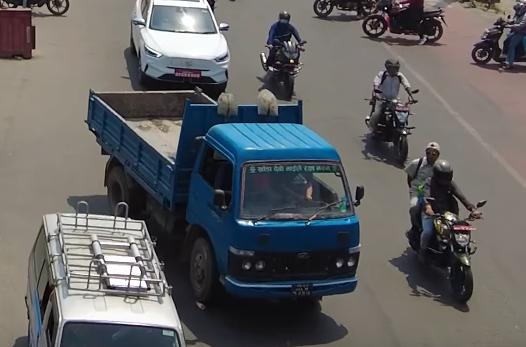bike: (399, 152, 483, 305), (372, 62, 413, 163), (364, 0, 455, 43), (266, 19, 305, 104), (308, 0, 364, 24)
car: (128, 0, 226, 88)
mini_truck: (76, 82, 375, 310)
scooter: (465, 0, 526, 80)
van: (26, 201, 187, 347)
